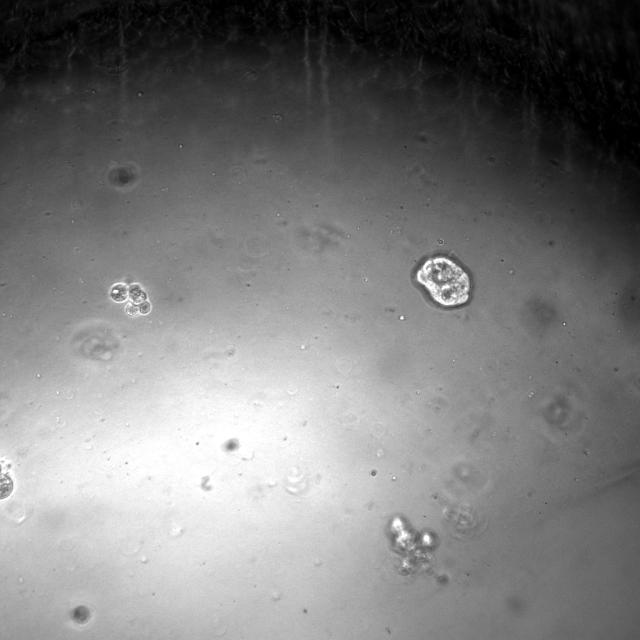organoid: (411, 252, 472, 309), (386, 514, 438, 575), (108, 281, 155, 318), (108, 165, 139, 189), (0, 460, 15, 500), (69, 604, 93, 627)
